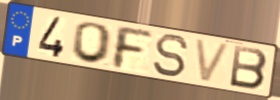4: (37, 16, 66, 59)
B: (228, 43, 270, 92)
F: (112, 23, 155, 71)
O: (69, 21, 115, 66)
S: (151, 32, 191, 79)
V: (193, 37, 233, 85)
